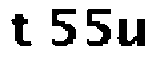5: (47, 6, 77, 49), (86, 6, 113, 48)
t: (9, 9, 36, 50)
u: (116, 15, 149, 50)
